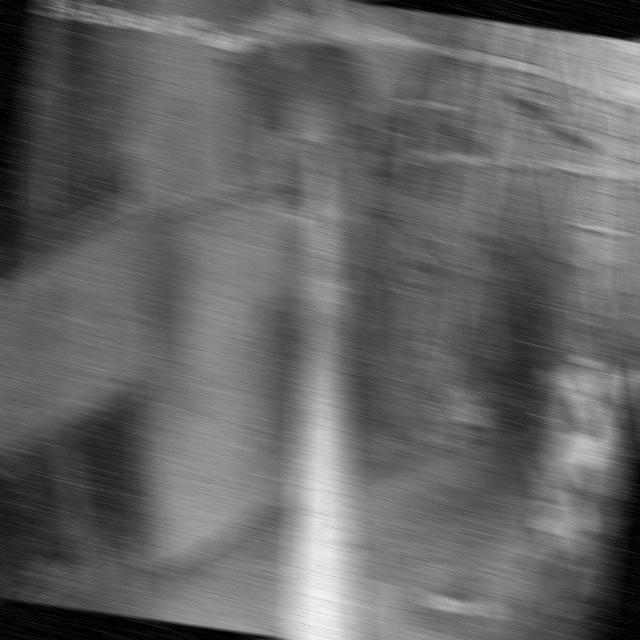cement_mixer_truck: (497, 271, 640, 640)
swing_chute: (266, 118, 370, 347)
